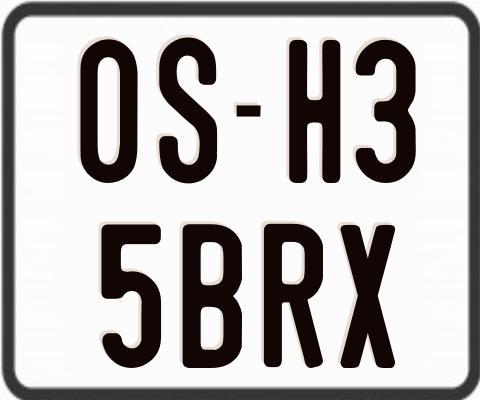0: (78, 38, 139, 182)
3: (356, 37, 422, 185)
5: (100, 222, 166, 367)
B: (183, 224, 244, 371)
H: (287, 37, 342, 185)
R: (261, 221, 320, 369)
S: (158, 34, 217, 184)
X: (337, 222, 392, 369)
